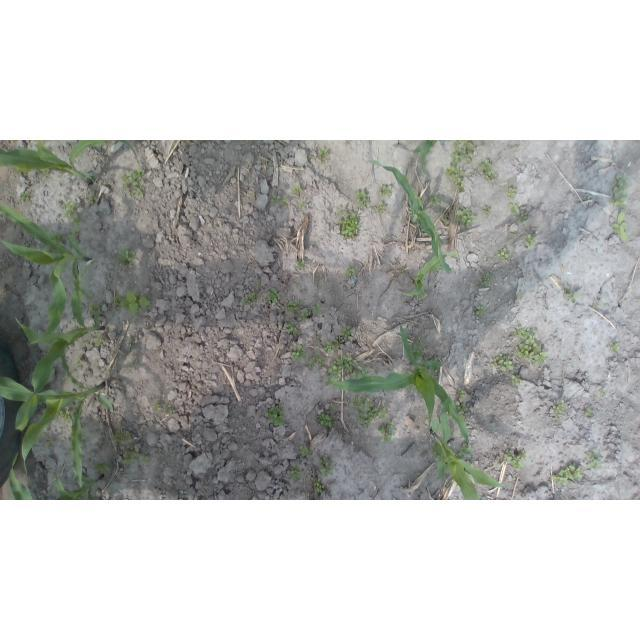Maize: (326, 323, 470, 447), (1, 348, 114, 489), (14, 261, 106, 432), (1, 203, 92, 345), (369, 159, 452, 274), (430, 400, 505, 500), (1, 141, 140, 188), (9, 453, 102, 500), (400, 252, 456, 300), (416, 140, 439, 178)
Weeds: (514, 324, 548, 366), (113, 291, 151, 317), (338, 208, 361, 240), (351, 397, 373, 428), (122, 170, 146, 198), (553, 464, 584, 485), (449, 140, 476, 164), (611, 176, 629, 209), (64, 201, 85, 227), (444, 165, 464, 191), (612, 212, 629, 242), (265, 407, 285, 430), (504, 451, 527, 470), (491, 353, 514, 372), (456, 208, 477, 226), (480, 160, 498, 181), (378, 421, 394, 444), (118, 248, 136, 267), (412, 336, 425, 359), (356, 189, 371, 208), (293, 344, 308, 363), (327, 359, 341, 379), (341, 356, 357, 373), (350, 365, 369, 379), (455, 444, 471, 460), (587, 452, 602, 469), (496, 248, 511, 265), (552, 399, 566, 417), (318, 460, 332, 477), (373, 407, 388, 422), (319, 413, 334, 428), (566, 287, 580, 303), (478, 272, 492, 288), (59, 406, 72, 423), (267, 288, 281, 303), (324, 341, 340, 354), (287, 299, 301, 313), (454, 399, 468, 413), (94, 462, 109, 475), (525, 234, 538, 249), (123, 451, 136, 465), (508, 202, 521, 216), (289, 468, 303, 481), (113, 431, 128, 443), (430, 441, 440, 459), (318, 148, 328, 165), (284, 321, 296, 335), (52, 231, 65, 243), (380, 184, 393, 196), (244, 292, 257, 304), (428, 367, 438, 382), (89, 304, 100, 317), (314, 479, 324, 493), (610, 341, 621, 353), (344, 266, 356, 277), (428, 195, 441, 205), (300, 446, 310, 459), (300, 308, 309, 322), (312, 303, 321, 317), (343, 327, 354, 338), (511, 375, 521, 386), (296, 260, 305, 272), (475, 306, 487, 315), (43, 245, 55, 254), (508, 188, 517, 199), (584, 408, 595, 417), (457, 388, 466, 399), (520, 211, 529, 221), (72, 228, 79, 240), (272, 196, 281, 205), (440, 213, 448, 223), (291, 186, 301, 194), (39, 168, 49, 176), (20, 192, 29, 200), (280, 199, 290, 206), (297, 202, 307, 209), (592, 301, 603, 307), (140, 455, 149, 462), (509, 231, 519, 237), (92, 339, 100, 346), (378, 205, 385, 213), (311, 352, 318, 360), (319, 358, 326, 366), (518, 292, 525, 300), (482, 207, 491, 213), (339, 205, 346, 212), (154, 403, 161, 410), (599, 389, 607, 395), (89, 196, 95, 204), (48, 439, 53, 447), (168, 404, 173, 412), (295, 281, 301, 287), (76, 358, 81, 364), (337, 336, 343, 341), (257, 280, 262, 285)
